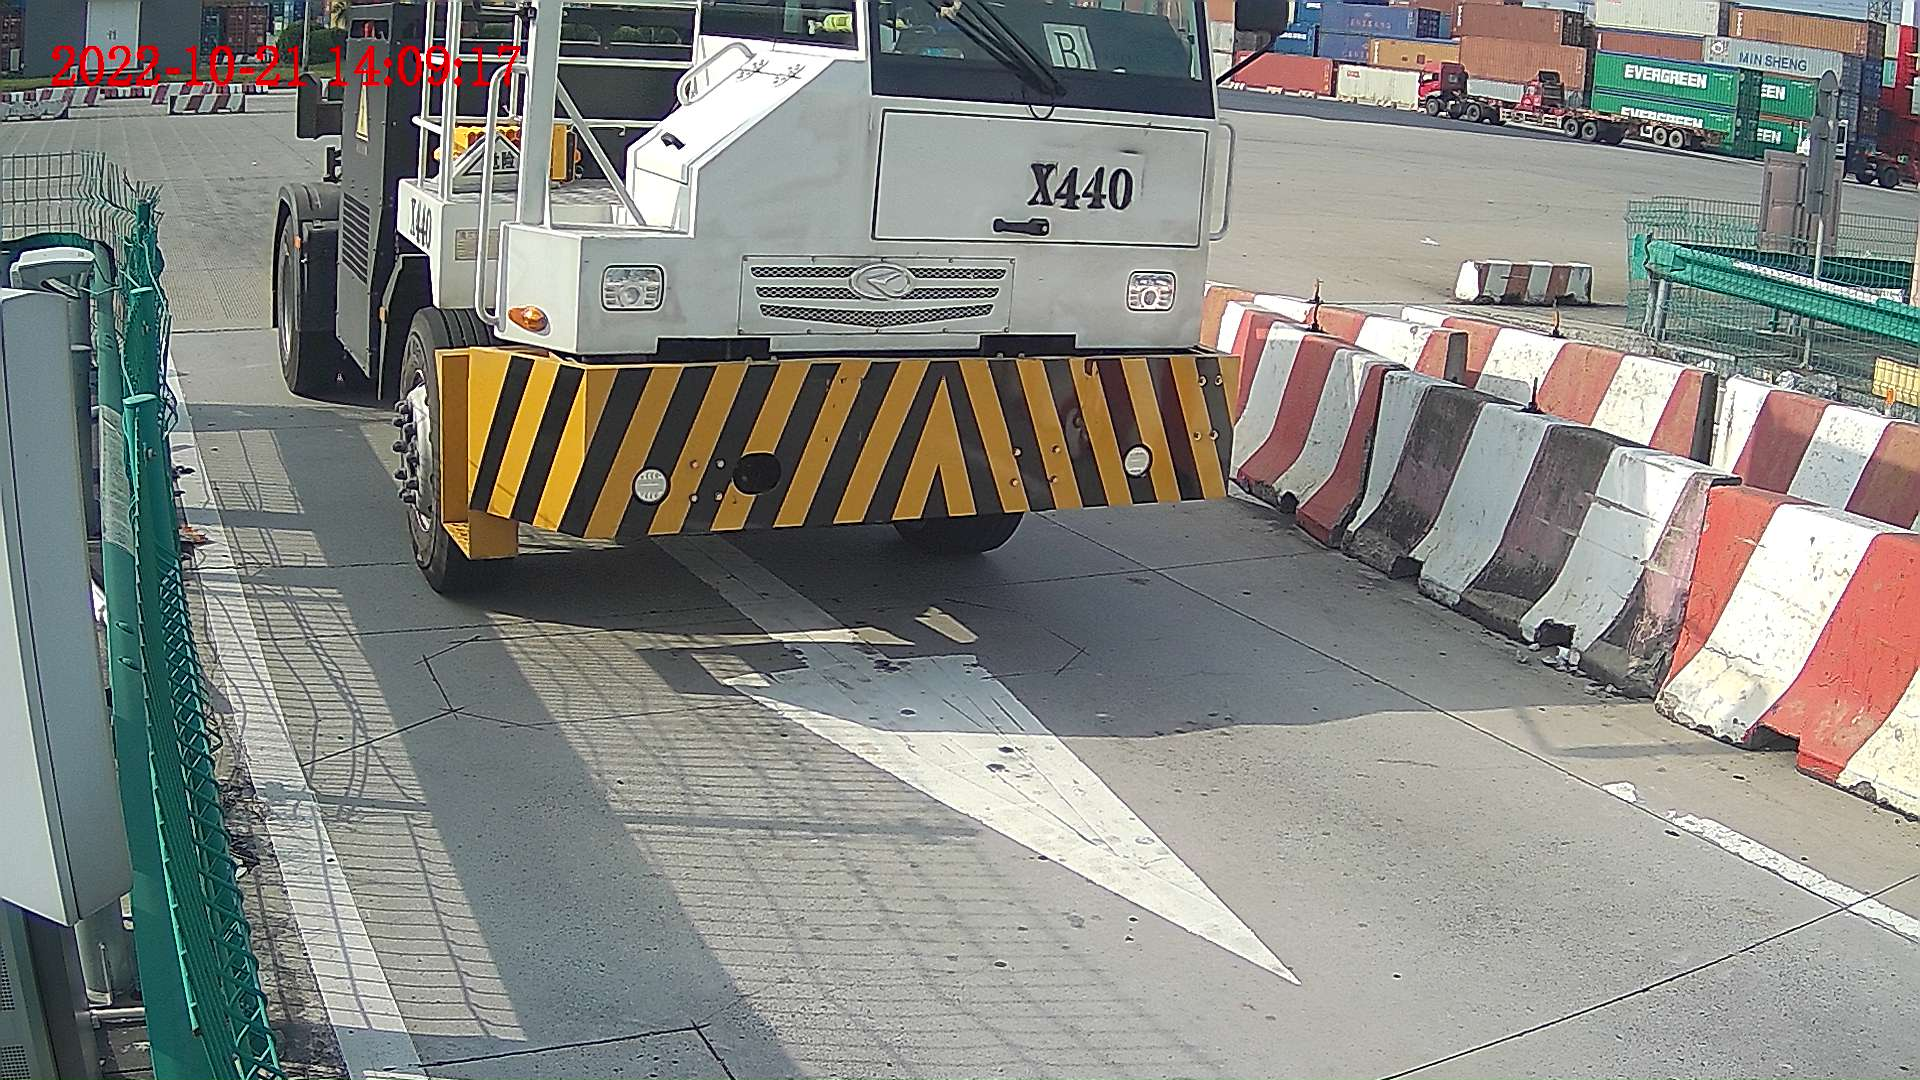head: (381, 1, 1252, 592)
